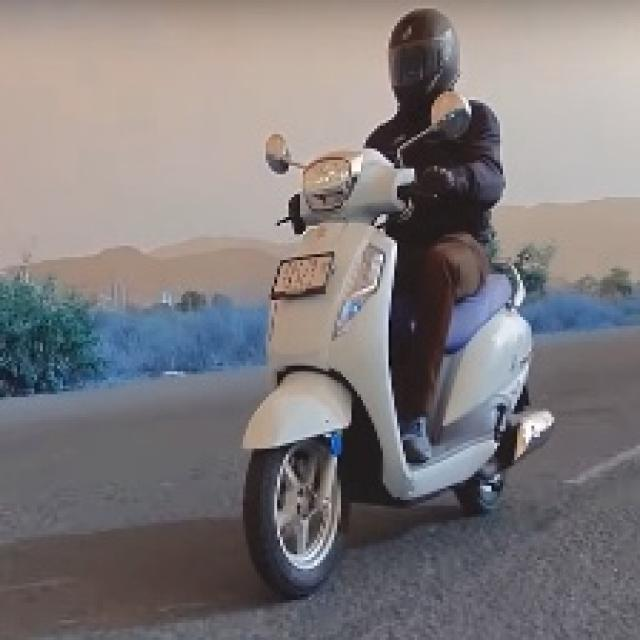bike: (246, 134, 524, 578)
